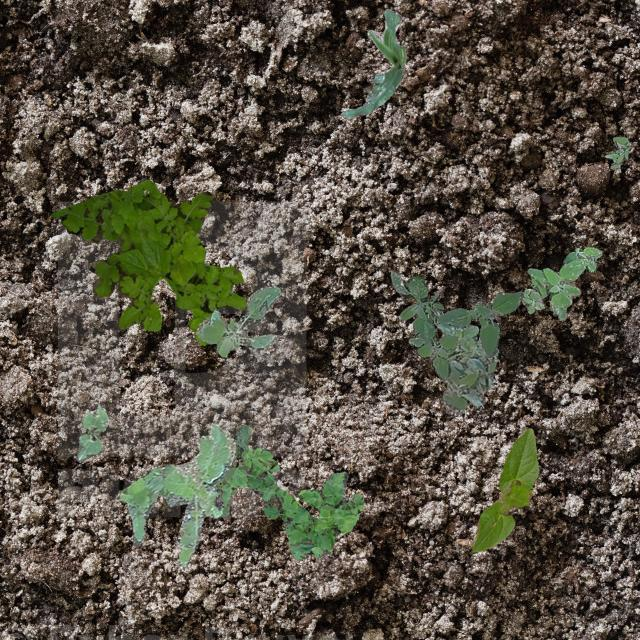crop: (472, 428, 538, 550), (340, 8, 406, 116), (76, 404, 106, 461)
weed: (49, 178, 246, 344), (212, 444, 362, 560), (118, 422, 234, 566), (389, 270, 522, 380), (433, 311, 497, 414), (194, 284, 280, 356), (520, 246, 600, 318), (212, 424, 250, 516), (604, 136, 628, 168)
